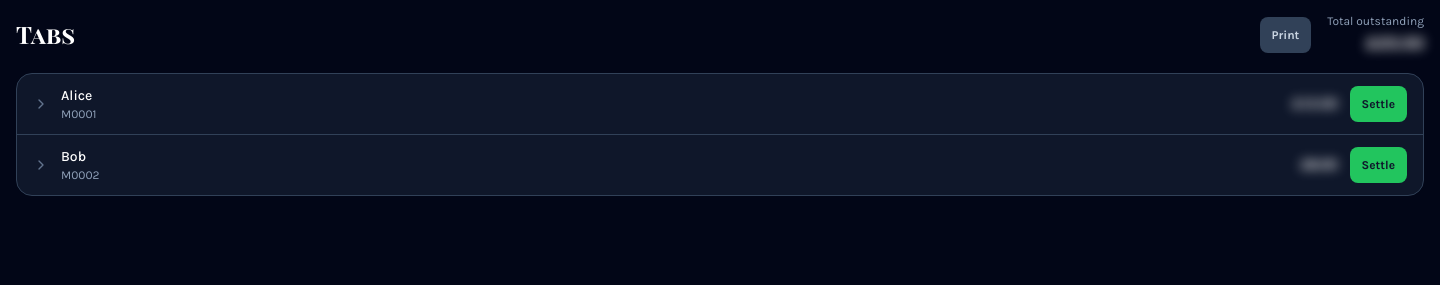
TabsPage › shows an error message when fetchTabOrders rejects inside an expanded row
Click the text "Alice". click: (77, 96)
box: [61,87,92,104]
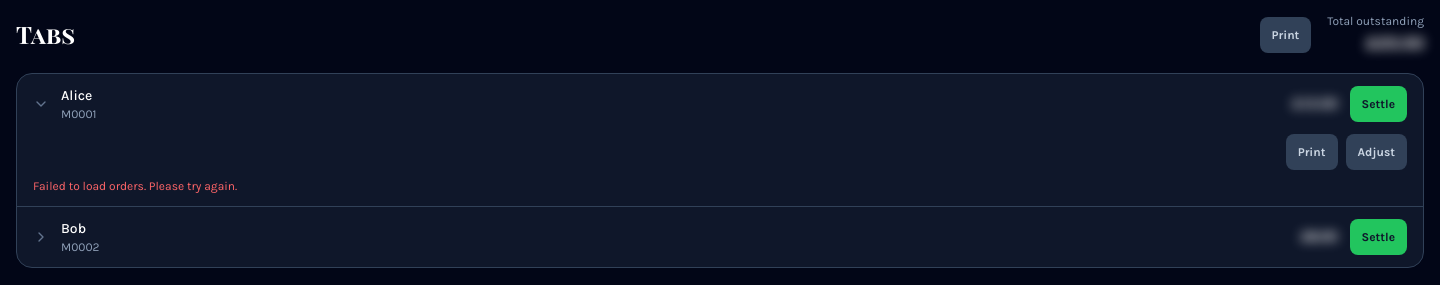
Now the text "Failed to load orders. Please try again." is shown, box [33,179,237,193]
